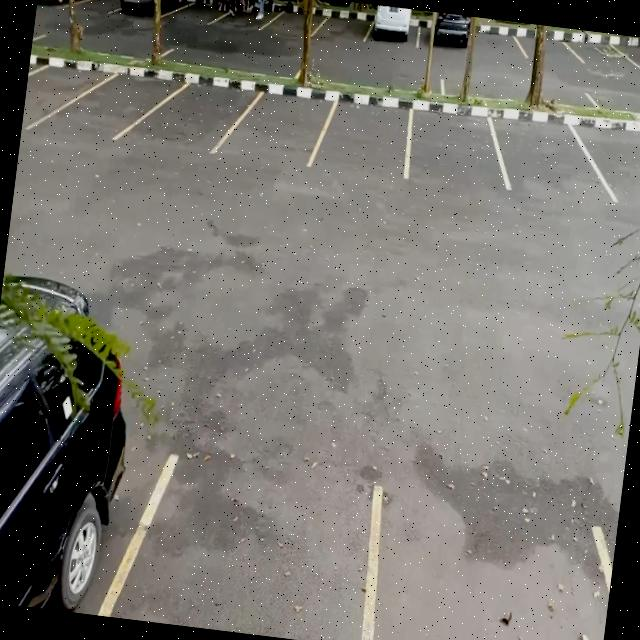empty: (126, 450, 386, 640), (312, 91, 418, 187), (496, 110, 598, 204), (402, 102, 506, 193), (146, 63, 244, 157), (231, 81, 329, 170), (67, 57, 159, 146), (589, 121, 640, 206)
occupied: (366, 4, 422, 46)
